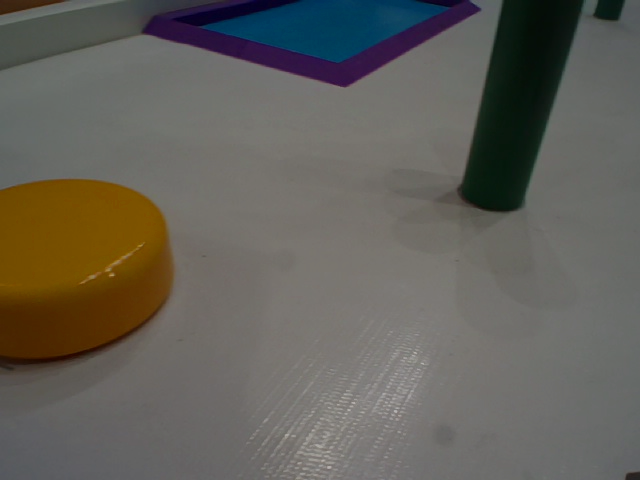kuang: (144, 1, 490, 91)
yellow: (1, 166, 184, 357)
zhuzi: (460, 1, 580, 220)
